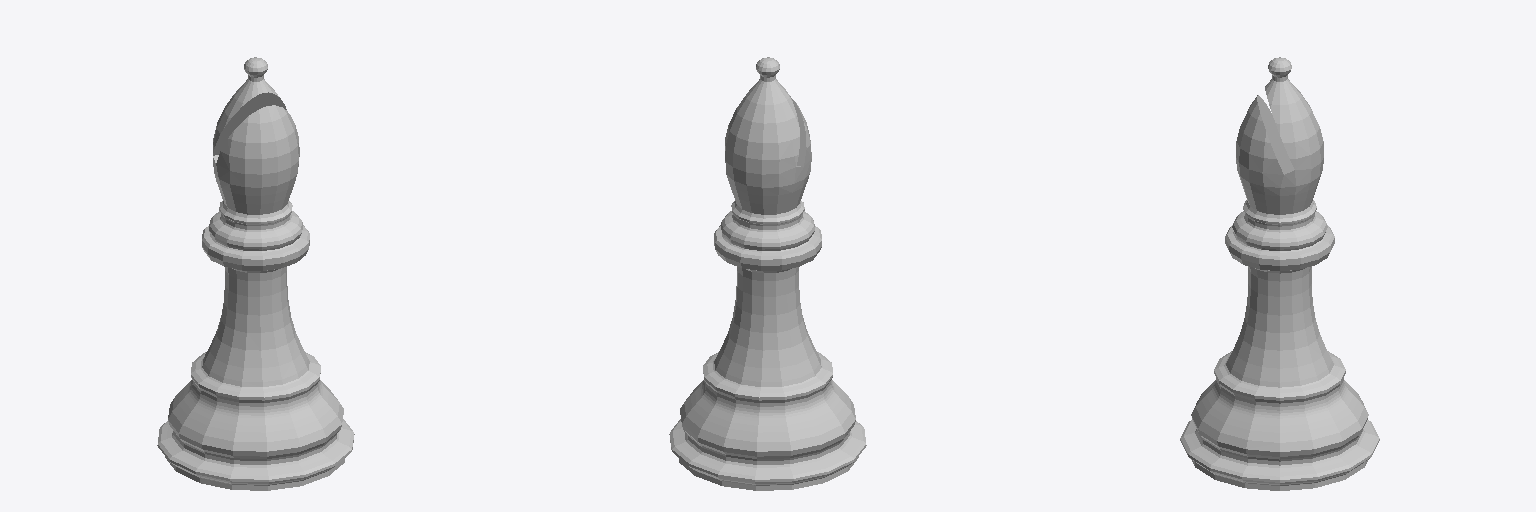
Rendered from bbishop.obj.
3 views of the same model, side by side, from view 1: azimuth 30°, elevation 25°; view 2: azimuth 150°, elevation 25°; view 3: azimuth 270°, elevation 25° (orthographic).
Parts seen in each view (by area): view 1: BlackBishop1_Cylinder.029; view 2: BlackBishop1_Cylinder.029; view 3: BlackBishop1_Cylinder.029.
Boxes of the visible parts, x1,y1,x2,y2 form: BlackBishop1_Cylinder.029: [157, 57, 354, 490]; BlackBishop1_Cylinder.029: [669, 57, 866, 490]; BlackBishop1_Cylinder.029: [1180, 57, 1379, 490].
Bounding box in the file's own units: 1.19 × 2.59 × 1.19.